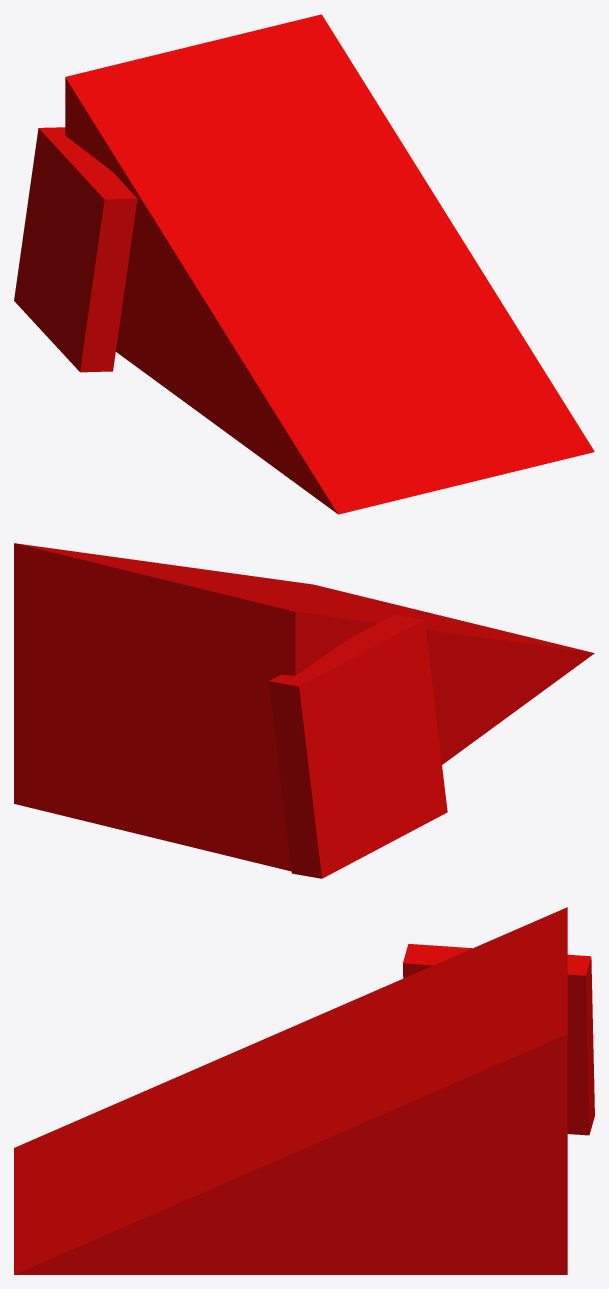
Rendered from SM_Prop_Ramp_02_Collision.fbx.
3 renders of one model, top to bottom at view 1: azimuth 30°, elevation 25°; view 2: azimuth 150°, elevation 25°; view 3: azimuth 270°, elevation 25°, orthographic. The views are drawn at different scales.
Parts seen in each view (by area): view 1: SM_Prop_Ramp_02_Collision; view 2: SM_Prop_Ramp_02_Collision; view 3: SM_Prop_Ramp_02_Collision.
Part boxes in pixels (x1,y1,x2,y2): SM_Prop_Ramp_02_Collision: [14, 14, 594, 514]; SM_Prop_Ramp_02_Collision: [14, 543, 594, 878]; SM_Prop_Ramp_02_Collision: [14, 907, 594, 1274].
Size of the model in its own units: 278 by 198 by 434.
